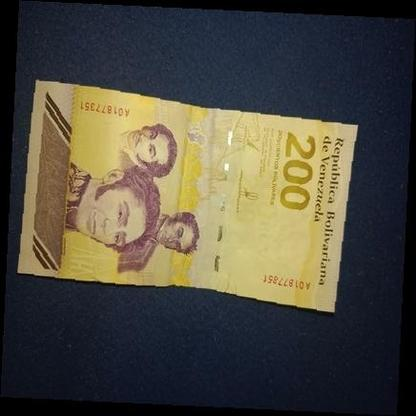two_hundred-front-vef: (17, 80, 358, 312)
